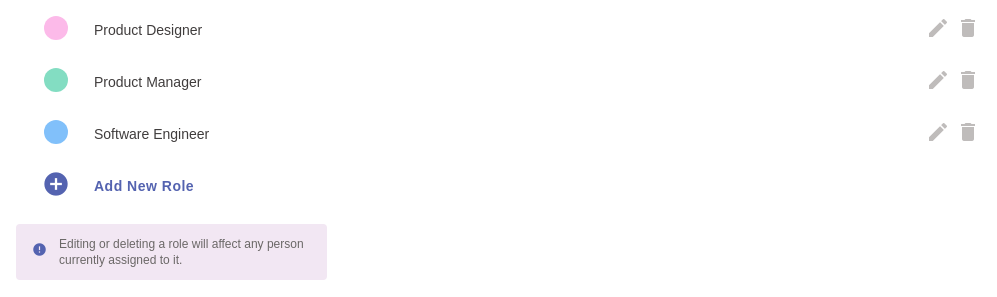
Test: My Roles Form › editing a role › should auto-populate name field when opening edit role section
Click the 1st button with test id "editIcon__role" at (938, 30), box [926,16,950,44]
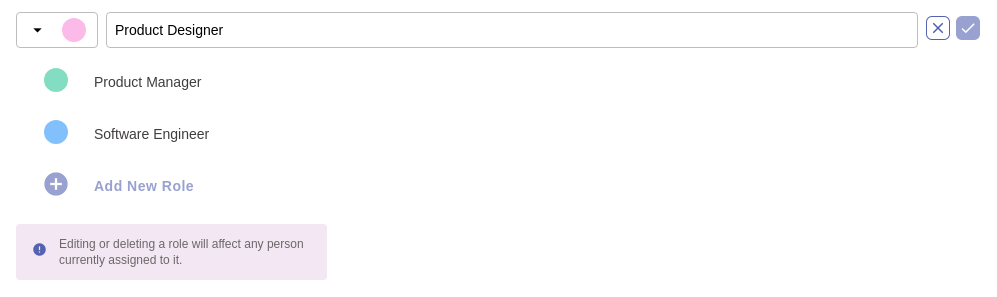
Expected: the field with test id "tagNameInput" holds "Product Designer", [106,12,918,48]
